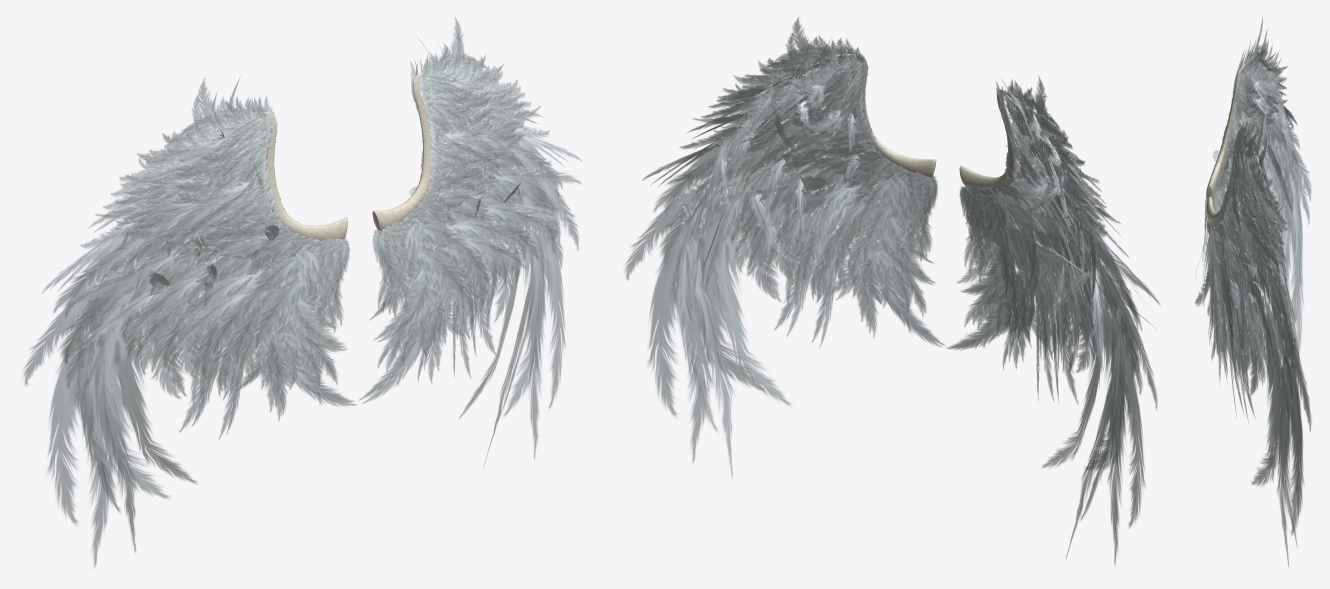
The model's file is wings1.glb.
The picture shows the model from 3 angles, left to right: view 1: azimuth 30°, elevation 25°; view 2: azimuth 150°, elevation 25°; view 3: azimuth 270°, elevation 25°; orthographic projection. The views are drawn at different scales.
Parts seen in each view (by area): view 1: wingR, wingL; view 2: wingL, wingR; view 3: wingL, wingR.
Boxes of the visible parts, left/top/right/bottom form: wingR: left=23, top=77, right=354, bottom=567; wingL: left=352, top=17, right=582, bottom=467; wingL: left=624, top=17, right=951, bottom=478; wingR: left=948, top=75, right=1160, bottom=565; wingL: left=1195, top=112, right=1311, bottom=566; wingR: left=1195, top=17, right=1311, bottom=353.
Bounding box in the file's own units: 2.63 × 2.16 × 0.5714.
2 materials, 2 textured.
